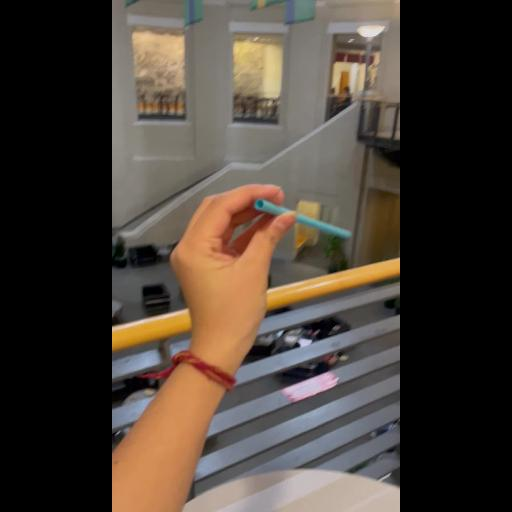straw: (254, 198, 352, 242)
